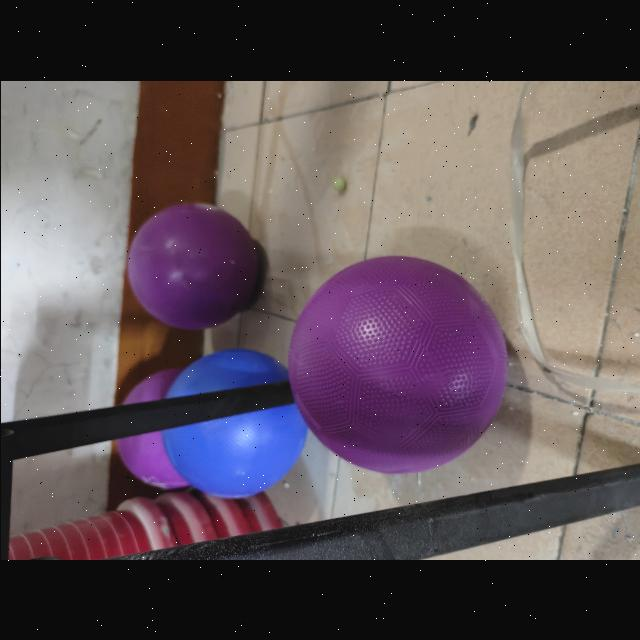B: (159, 347, 309, 501)
P: (284, 254, 508, 474), (122, 200, 262, 330), (111, 364, 239, 488)
